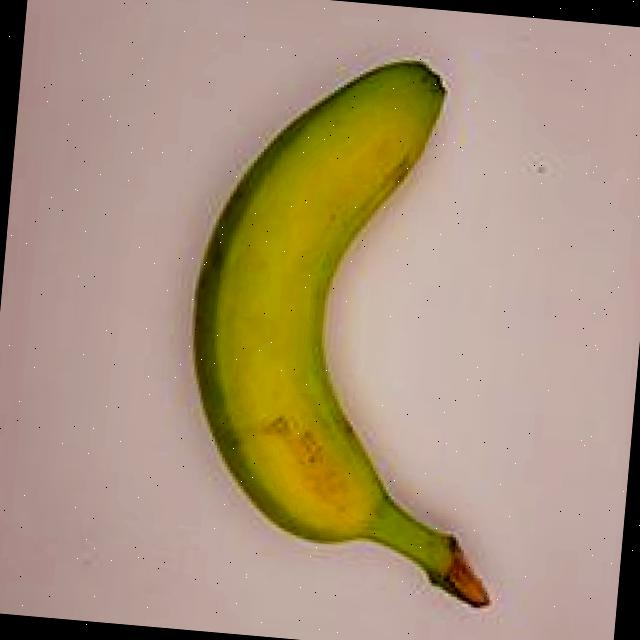Unripe: (100, 16, 582, 631)
